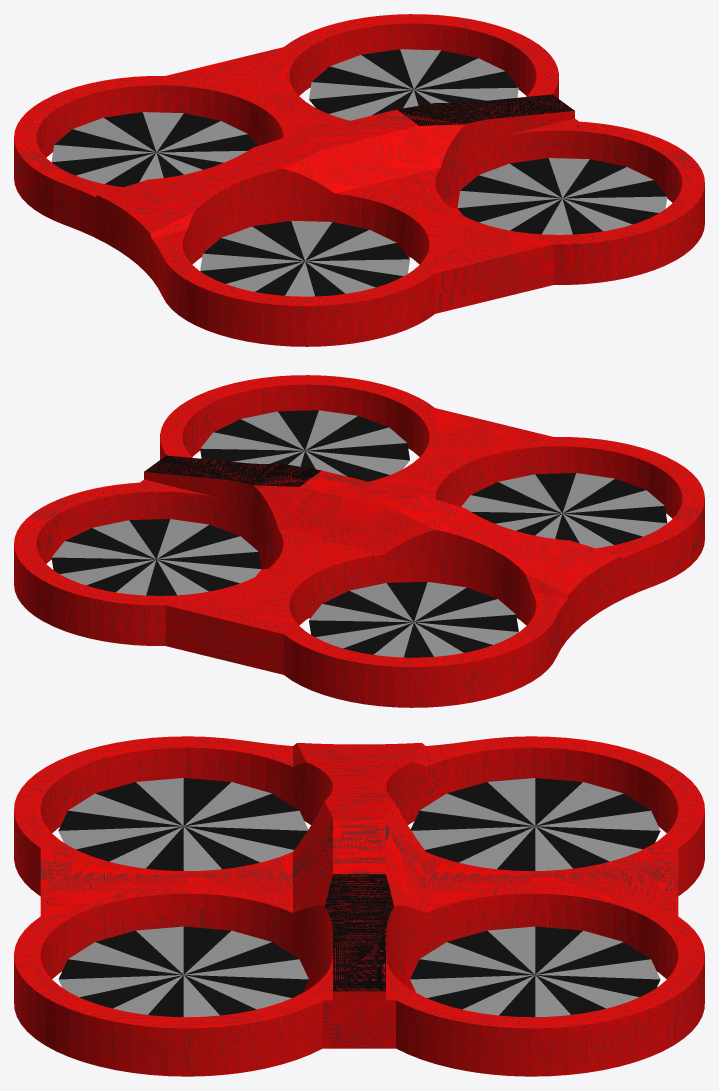
File: red_quadrotor.dae
The picture shows the model from 3 angles, top to bottom: view 1: azimuth 30°, elevation 25°; view 2: azimuth 150°, elevation 25°; view 3: azimuth 270°, elevation 25°; orthographic projection. The views are drawn at different scales.
Parts seen in each view (by area): view 1: skp51B8 (×57); view 2: skp51B8 (×57); view 3: skp51B8 (×66).
Boxes of the visible parts, x1,y1,x2,y2 form: skp51B8 (×57): (14, 14, 704, 346); skp51B8 (×57): (14, 375, 704, 707); skp51B8 (×66): (14, 736, 704, 1076).
Size of the model in its own units: 20.47 by 20.47 by 4.33.
